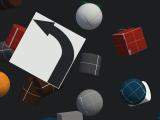Left: (9, 12, 86, 89)
